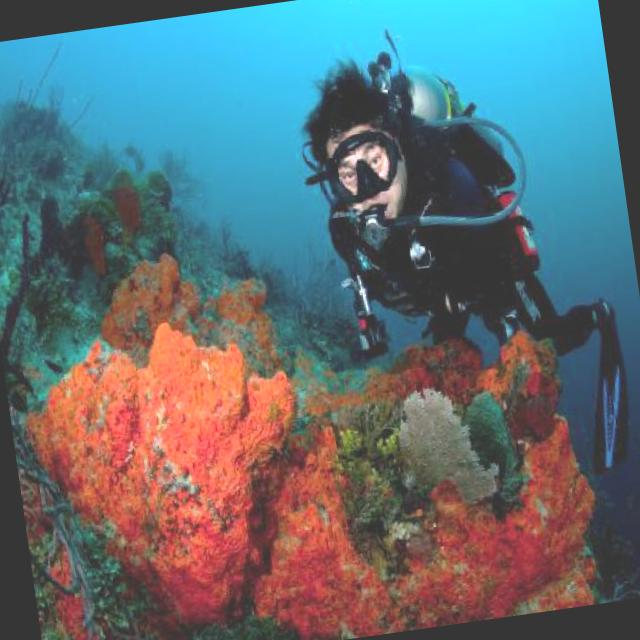Person: (283, 9, 640, 524)
